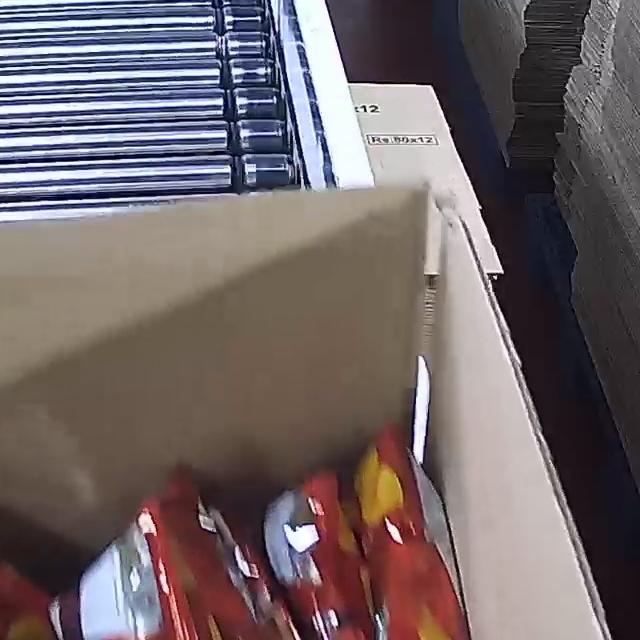masala: (0, 421, 522, 640)
